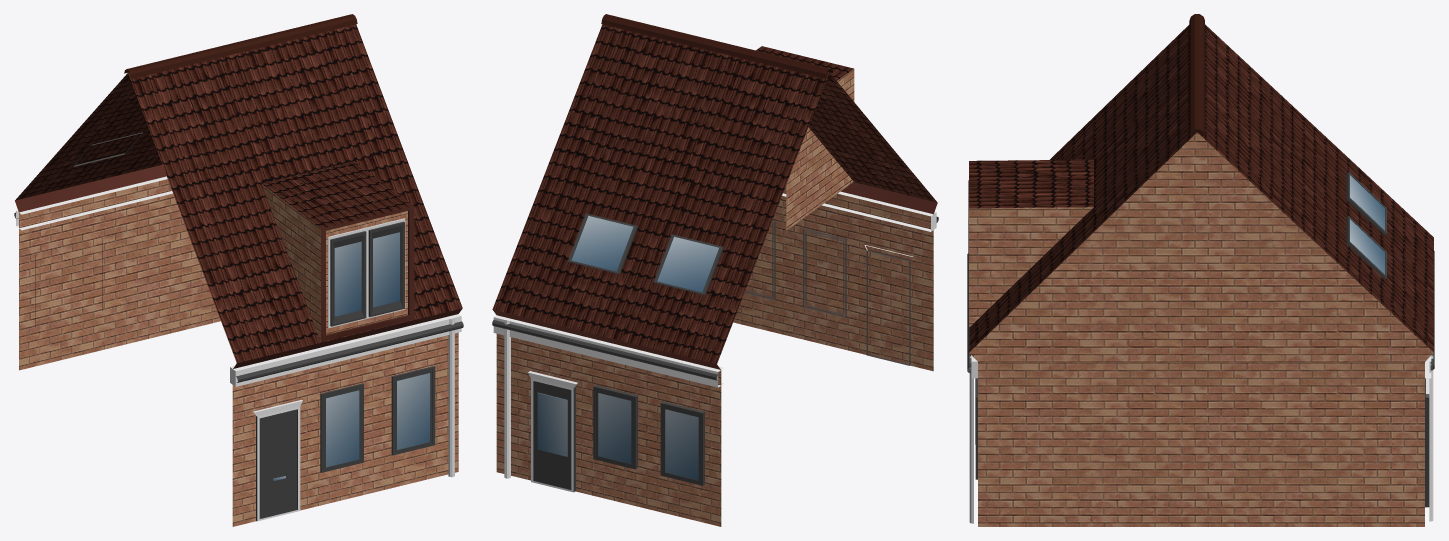
The model's file is Buorkerij_37.fbx.
3 renders of one model, left to right at view 1: azimuth 30°, elevation 25°; view 2: azimuth 150°, elevation 25°; view 3: azimuth 270°, elevation 25°, orthographic. The views are drawn at different scales.
Parts seen in each view (by area): view 1: Buorkerij_37; view 2: Buorkerij_37; view 3: Buorkerij_37.
Part boxes in pixels (x1=…): Buorkerij_37: x1=14, y1=14, x2=463, y2=526; Buorkerij_37: x1=492, y1=14, x2=938, y2=526; Buorkerij_37: x1=967, y1=14, x2=1434, y2=526.
Size of the model in its own units: 5.48 by 8.81 by 9.38.
